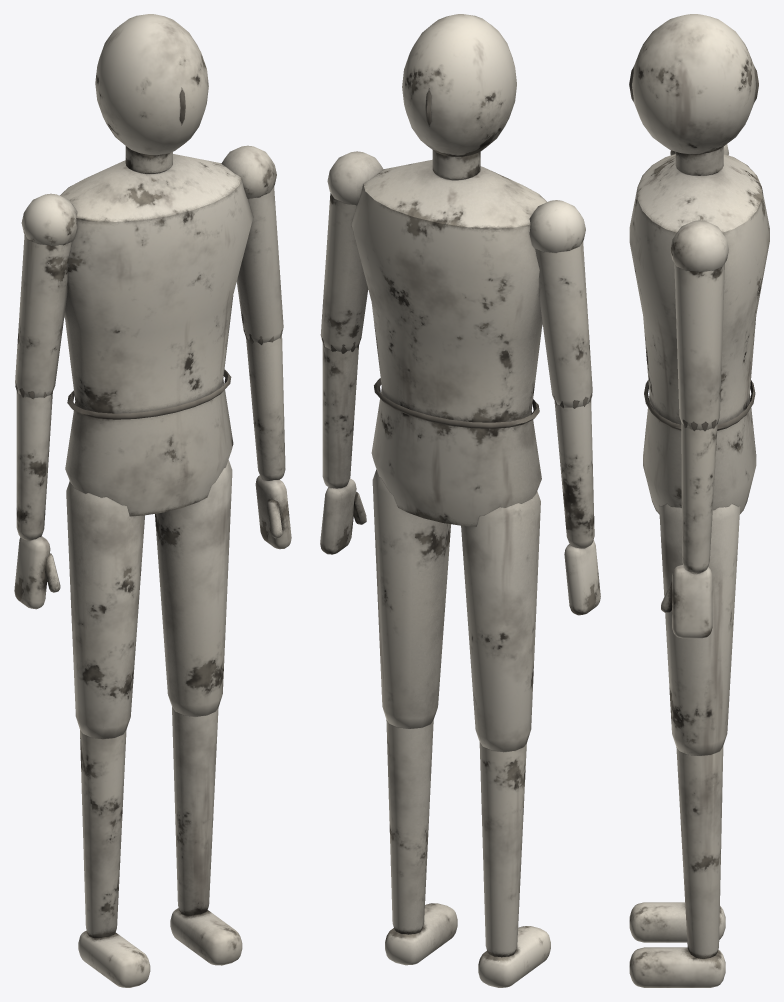
The model's file is mannequin.fbx.
The picture shows the model from 3 angles, left to right: view 1: azimuth 30°, elevation 25°; view 2: azimuth 150°, elevation 25°; view 3: azimuth 270°, elevation 25°; orthographic projection.
Parts seen in each view (by area): view 1: Torso, Thigh, LeftThigh, Head, LeftShin, Shin, UpperArm, LeftUpperArm, Forearm, LeftForearm, Hand, LeftHand; view 2: Torso, Thigh, LeftThigh, Head, LeftShin, Shin, UpperArm, LeftUpperArm, Forearm, LeftForearm, LeftHand, Hand; view 3: Torso, Head, LeftThigh, LeftShin, LeftUpperArm, LeftForearm, LeftHand, Shin.
Boxes of the visible parts, box(x1,y1,x2,y2) form: Torso: box(60, 154, 253, 516); Thigh: box(66, 481, 144, 738); LeftThigh: box(155, 460, 232, 716); Head: box(95, 14, 208, 173); LeftShin: box(170, 707, 242, 965); Shin: box(78, 730, 150, 987); UpperArm: box(15, 193, 77, 397); LeftUpperArm: box(221, 145, 283, 342); Forearm: box(15, 384, 53, 540); LeftForearm: box(244, 330, 285, 480); Hand: box(14, 536, 60, 609); LeftHand: box(255, 475, 291, 549); Torso: box(351, 159, 546, 526); Thigh: box(461, 491, 540, 751); LeftThigh: box(372, 469, 450, 728); Head: box(402, 14, 516, 180); LeftShin: box(385, 719, 457, 965); Shin: box(478, 742, 550, 987); UpperArm: box(529, 200, 592, 407); LeftUpperArm: box(320, 151, 383, 351); Forearm: box(553, 393, 594, 548); LeftForearm: box(322, 338, 360, 488); LeftHand: box(320, 478, 366, 554); Hand: box(564, 540, 600, 615); Torso: box(629, 154, 769, 514); Head: box(629, 14, 758, 175); LeftThigh: box(659, 504, 740, 755); LeftShin: box(629, 746, 725, 987); LeftUpperArm: box(670, 220, 728, 430); LeftForearm: box(681, 419, 717, 573); LeftHand: box(661, 565, 712, 638); Shin: box(629, 902, 725, 942).
Bounding box in the file's own units: 1.67 × 5.65 × 0.763.
1 material, 1 textured.
